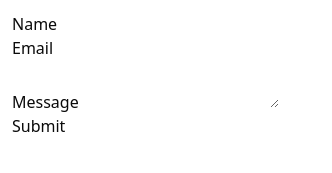
Test case: ContactForm › submits the form
Type "John Doe" into the field labelled "Name" at (173, 24), box left=57, top=12, right=288, bottom=36
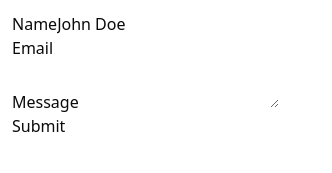
Type "john.doe@example.com" into the field labelled "Email" at (169, 48), box left=53, top=36, right=284, bottom=60
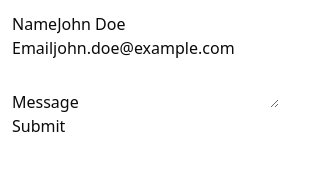
Type "Test message" into the text box labelled "Message" at (179, 84), box left=79, top=60, right=279, bottom=108
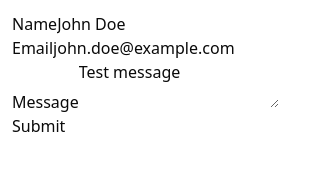
Click the button "Submit" at (39, 126), box left=12, top=114, right=65, bottom=138
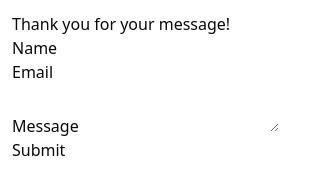
Now the text "Thank you for your message!" is shown, box left=12, top=13, right=230, bottom=35
